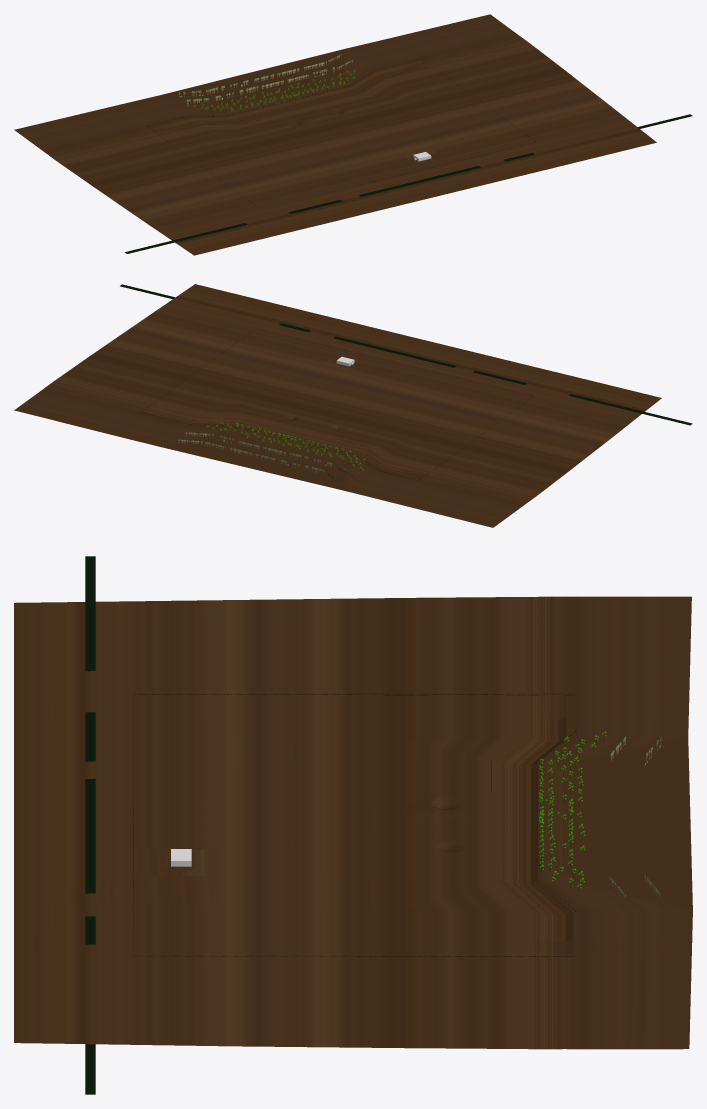
File: map_1.glb
The picture shows the model from 3 angles, top to bottom: view 1: azimuth 30°, elevation 25°; view 2: azimuth 150°, elevation 25°; view 3: azimuth 270°, elevation 25°; orthographic projection. The views are drawn at different scales.
Parts seen in each view (by area): view 1: Ground, Road.003; view 2: Ground, Road.003; view 3: Ground, Road.003.
Boxes of the visible parts, bbox=[...] form: Ground: bbox=[14, 14, 656, 255]; Road.003: bbox=[125, 114, 692, 253]; Ground: bbox=[14, 284, 661, 527]; Road.003: bbox=[120, 284, 692, 425]; Ground: bbox=[14, 596, 692, 1049]; Road.003: bbox=[85, 556, 95, 1094].
Size of what is drawn, in the model's own units: 1000 by 15.11 by 533.
42 materials, 28 textured.
